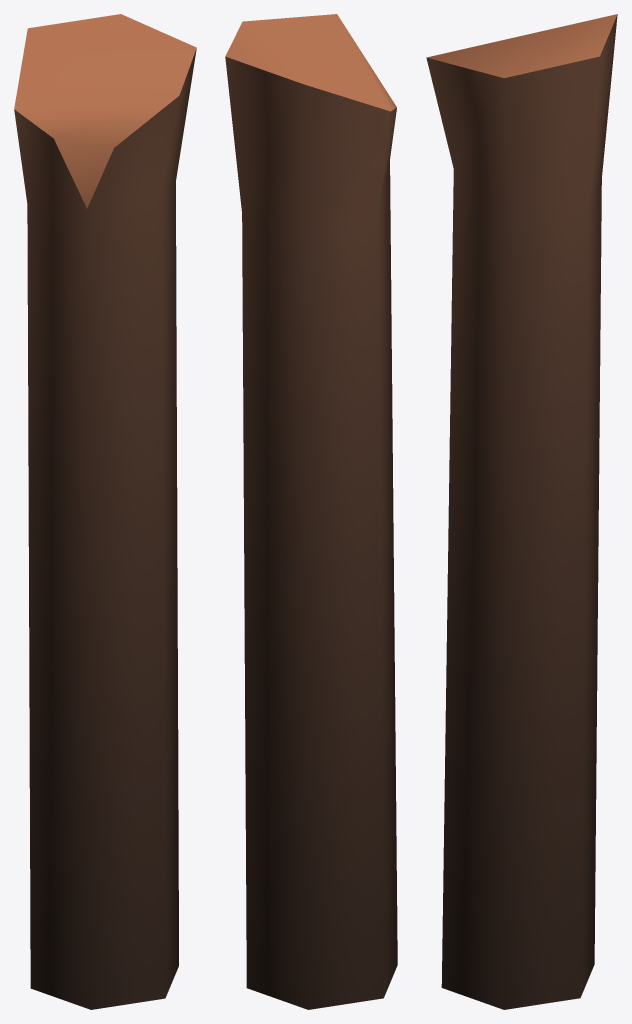
The model's file is Fence_2A_Part_2.fbx.
The picture shows the model from 3 angles, left to right: view 1: azimuth 30°, elevation 25°; view 2: azimuth 150°, elevation 25°; view 3: azimuth 270°, elevation 25°; orthographic projection. The views are drawn at different scales.
Parts seen in each view (by area): view 1: Fence_2A_Part_2; view 2: Fence_2A_Part_2; view 3: Fence_2A_Part_2.
Part boxes in pixels (x1,y1,x2,y2): Fence_2A_Part_2: (14, 14, 196, 1009); Fence_2A_Part_2: (225, 14, 397, 1009); Fence_2A_Part_2: (426, 14, 617, 1009).
Bounding box in the file's own units: 24.74 × 132 × 24.23.
